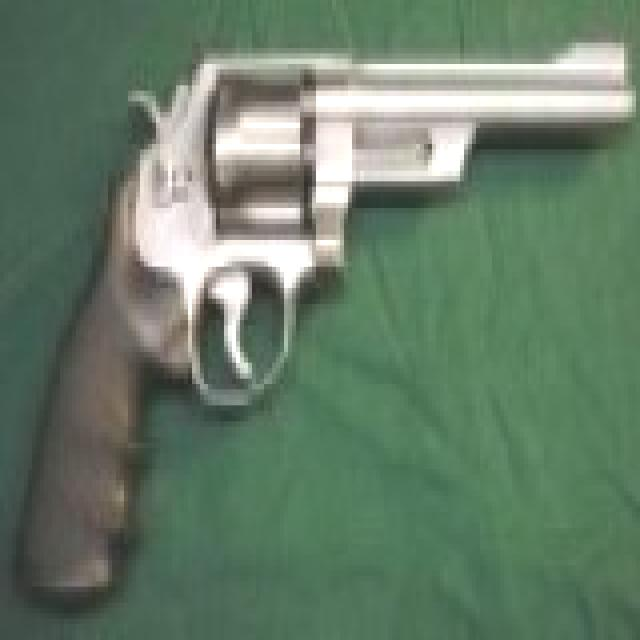pistol: (16, 21, 636, 614)
